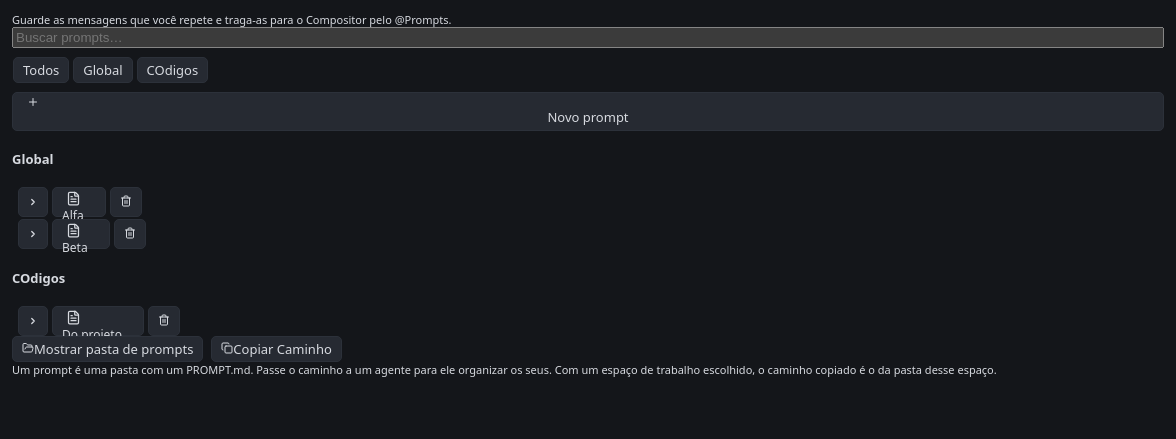
a descrição aberta mostra o texto do prompt e a busca olha dentro dele
Later steps or results of the test are not shown.
Click the 1st button with class "library-expand": (33, 202) [18, 187, 48, 217]
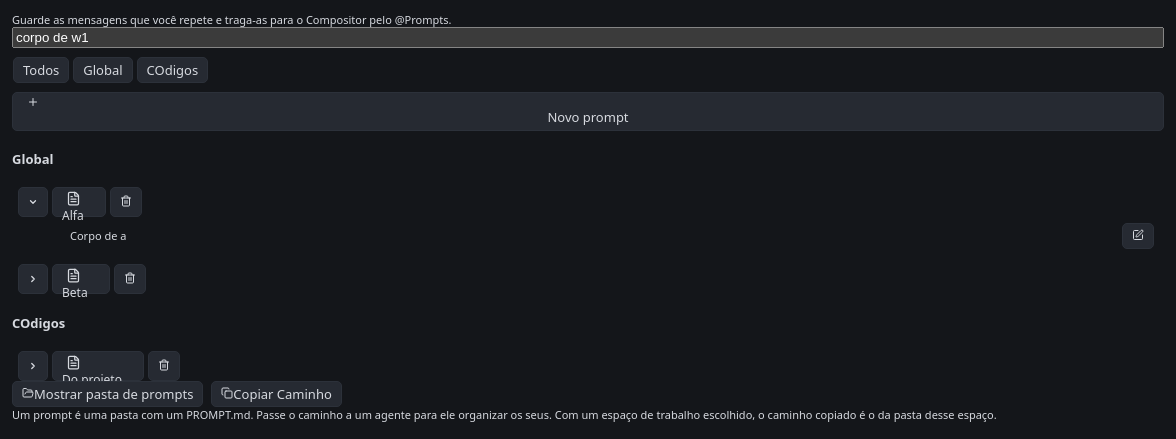
Expected: the element with class "library-description" reads "Corpo de a", [70, 228, 126, 243]
